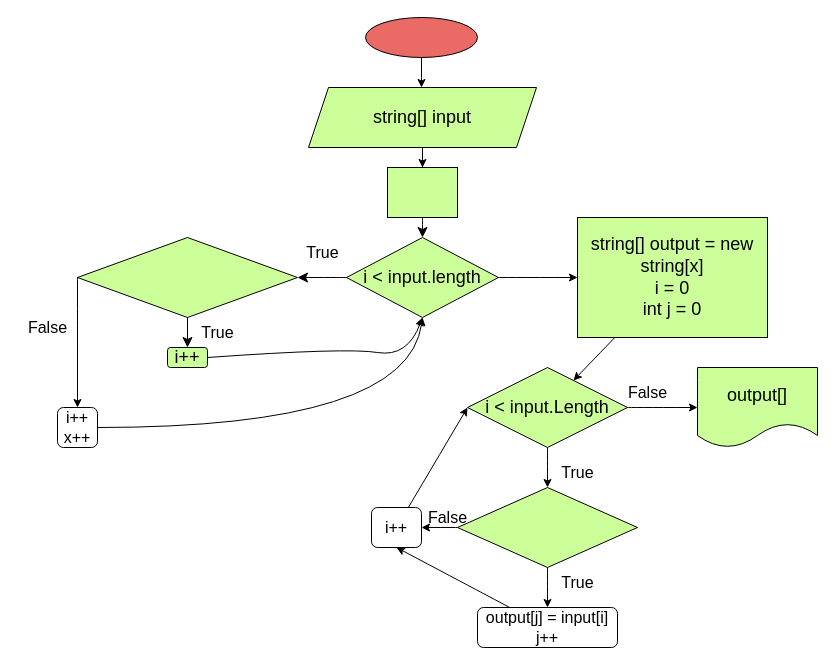
Image size: 835x665. Some labels were removed from this diagram. Here are the shapes that lost their labels. From the top down, the centre of each, then its label:
At point (421, 37): "Начало".
At point (422, 192): "int i = 0 int x = 0".
At point (187, 277): "string[i].Length < 3".
At point (547, 527): "input[i].Length <=3".
